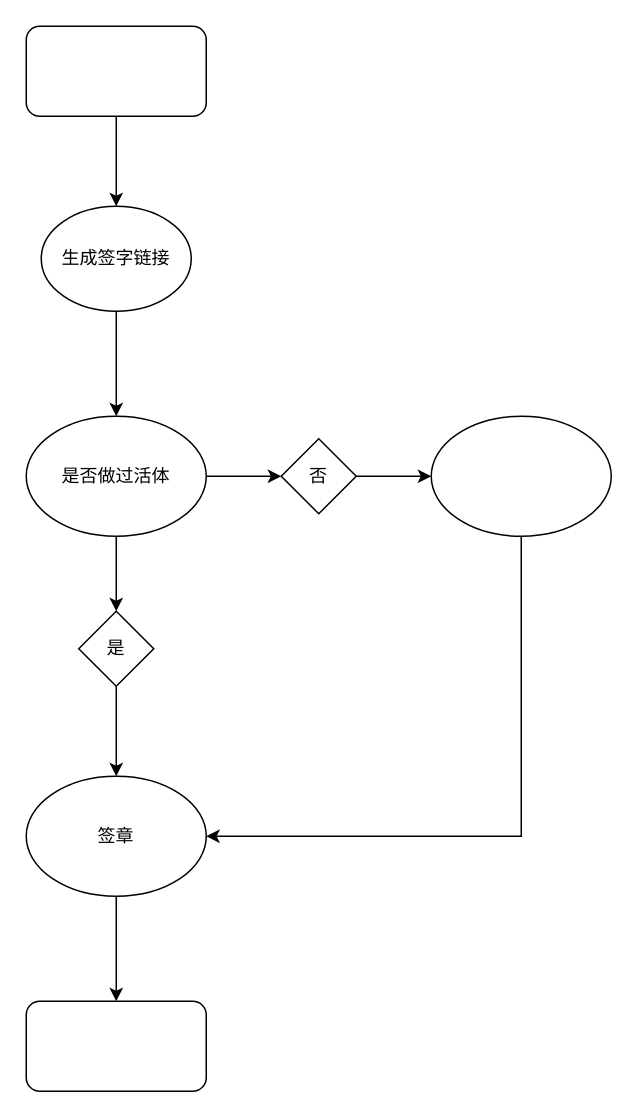
This 638x1118 diagram has some shape labels left out. The box of each missing label's shape, as (x1, y1, x2, y2) in pixels:
crm系统: (25, 25, 206, 116)
做活体: (430, 415, 611, 536)
结束: (25, 1000, 206, 1091)
